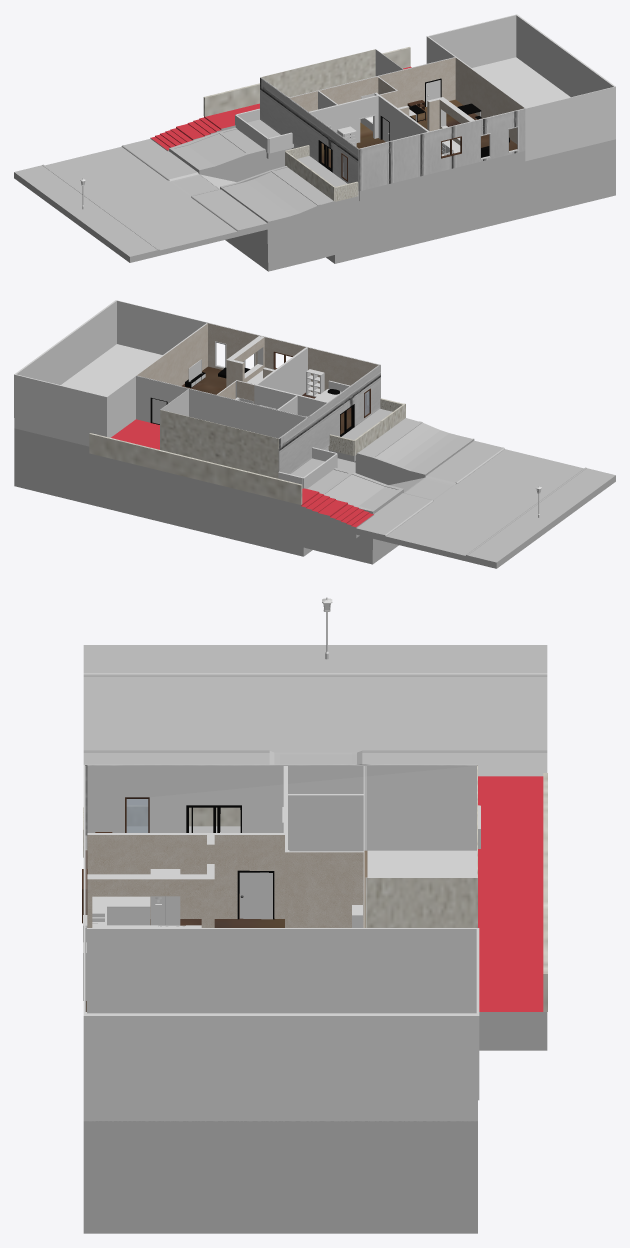
File: apartment.fbx
3 views of the same model, one above another, from view 1: azimuth 30°, elevation 25°; view 2: azimuth 150°, elevation 25°; view 3: azimuth 270°, elevation 25° (orthographic). The views are drawn at different scales.
Parts seen in each view (by area): view 1: GarageWall_R, Road, Lawn_R, ApartmentWall_R, Sidewalk_Front, Wall_R, Sidewalk_Back, ApartmentWall_Front_Outside, Wall_Back, ApartmentWall_L, Lawn_L, Floor.001 (+17 smaller); view 2: Road, GarageWall_L, Stairs, ApartmentWall_L.001, Lawn_R, Sidewalk_Front, WalkwayWall, Lawn_L, ApartmentWall_L, Wall_Back.001, Sidewalk_Back, ApartmentWall_Front_Outside (+16 smaller); view 3: Road, Wall_Back, GarageWall_Back, ApartmentWall_Back.001, ApartmentWall_Front_Inside, Stairs, ApartmentWallMiddle, Sidewalk_Front, Floor.001, GarageFloor, Sidewalk_Back, ApartmentWall_Back (+11 smaller).
Boxes of the visible parts, <box> form: GarageWall_R: <box>335,139,615,253</box>; Road: <box>45,146,238,255</box>; Lawn_R: <box>220,166,335,271</box>; ApartmentWall_R: <box>358,108,525,191</box>; Sidewalk_Front: <box>14,164,160,262</box>; Wall_R: <box>525,87,615,150</box>; Sidewalk_Back: <box>121,138,267,236</box>; ApartmentWall_Front_Outside: <box>260,77,358,191</box>; Wall_Back: <box>516,15,615,128</box>; ApartmentWall_L: <box>289,57,455,122</box>; Lawn_L: <box>169,127,266,181</box>; Floor.001: <box>472,57,615,161</box>; Road: <box>385,449,583,561</box>; GarageWall_L: <box>14,428,303,545</box>; Stairs: <box>89,419,374,538</box>; ApartmentWall_L.001: <box>160,410,278,478</box>; Lawn_R: <box>355,418,474,484</box>; Sidewalk_Front: <box>465,467,615,568</box>; WalkwayWall: <box>89,433,302,504</box>; Lawn_L: <box>303,468,403,564</box>; ApartmentWall_L: <box>136,375,307,438</box>; Wall_Back.001: <box>14,374,107,436</box>; Sidewalk_Back: <box>356,440,504,541</box>; ApartmentWall_Front_Outside: <box>278,364,380,473</box>; Road: <box>83,676,547,752</box>; Wall_Back: <box>83,1014,477,1100</box>; GarageWall_Back: <box>95,1121,466,1212</box>; ApartmentWall_Back.001: <box>87,928,476,1013</box>; ApartmentWall_Front_Inside: <box>87,765,476,850</box>; Stairs: <box>478,776,547,1050</box>; ApartmentWallMiddle: <box>87,833,363,927</box>; Sidewalk_Front: <box>83,645,547,676</box>; Floor.001: <box>83,1012,477,1121</box>; GarageFloor: <box>83,1212,477,1233</box>; Sidewalk_Back: <box>83,750,547,776</box>; ApartmentWall_Back: <box>365,877,477,927</box>.
Size of the model in its own units: 9681 by 2070 by 4017.
